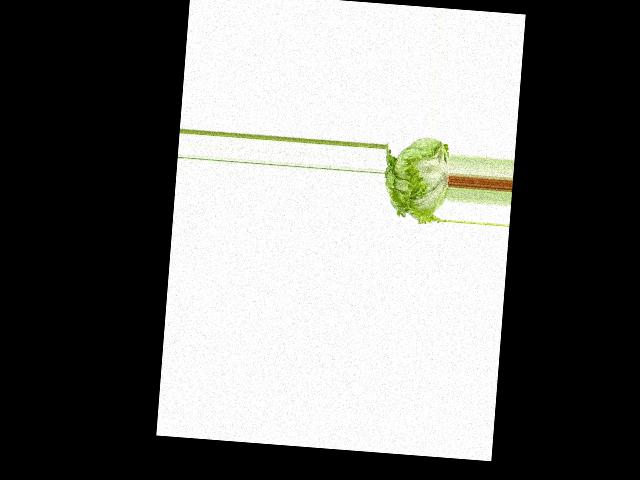lettuce: (381, 132, 453, 229)
